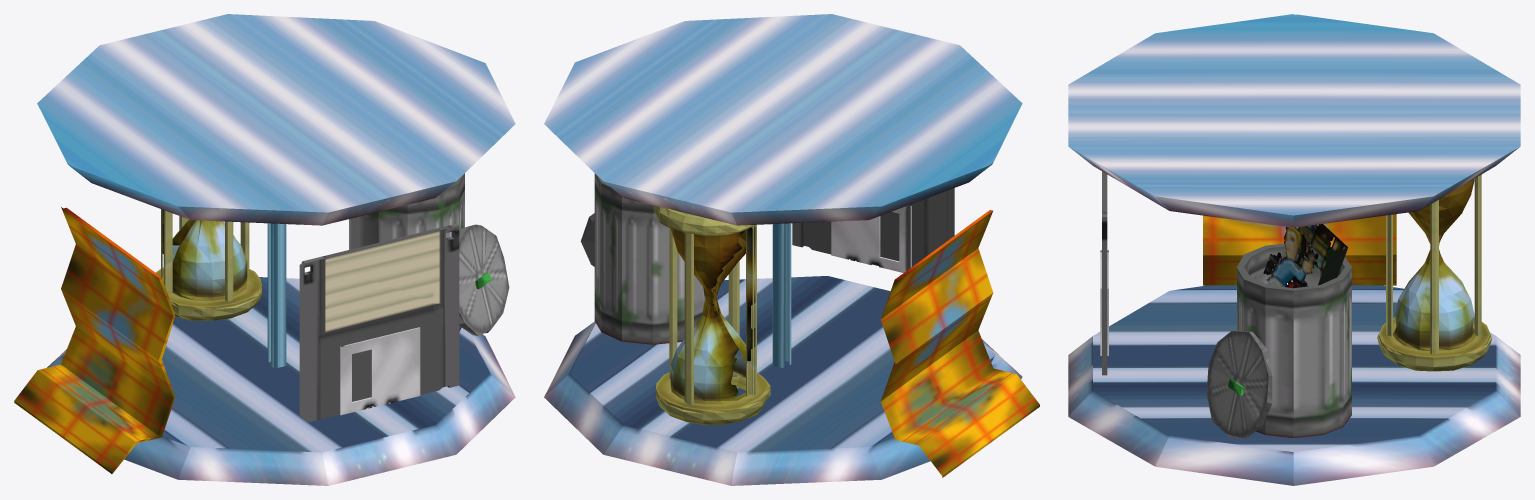
Rendered from SaveLoad.glb.
3 views of the same model, side by side, from view 1: azimuth 30°, elevation 25°; view 2: azimuth 150°, elevation 25°; view 3: azimuth 270°, elevation 25° (orthographic).
Parts seen in each view (by area): view 1: SaveLoad; view 2: SaveLoad; view 3: SaveLoad.
Part boxes in pixels (x1,y1,x2,y2): SaveLoad: (14, 14, 515, 485); SaveLoad: (544, 14, 1039, 485); SaveLoad: (1068, 14, 1520, 485).
Bounding box in the file's own units: 413 × 256 × 386.
1 material, 1 textured.
